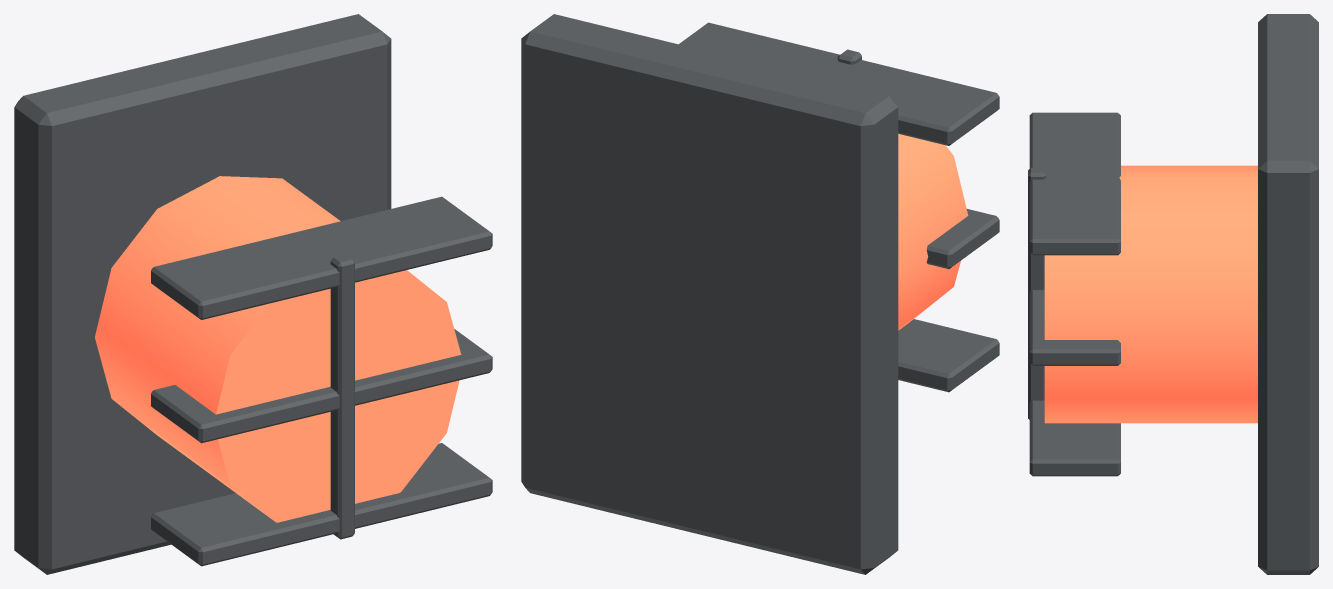
The model's file is emergency_lamp.glb.
The picture shows the model from 3 angles, left to right: view 1: azimuth 30°, elevation 25°; view 2: azimuth 150°, elevation 25°; view 3: azimuth 270°, elevation 25°; orthographic projection. The views are drawn at different scales.
Parts seen in each view (by area): view 1: emergency_lamp; view 2: emergency_lamp; view 3: emergency_lamp.
Boxes of the visible parts, bbox=[...] form: emergency_lamp: bbox=[14, 14, 492, 574]; emergency_lamp: bbox=[521, 14, 999, 574]; emergency_lamp: bbox=[1028, 14, 1318, 574].
Bounding box in the file's own units: 0.24 × 0.3 × 0.191.
